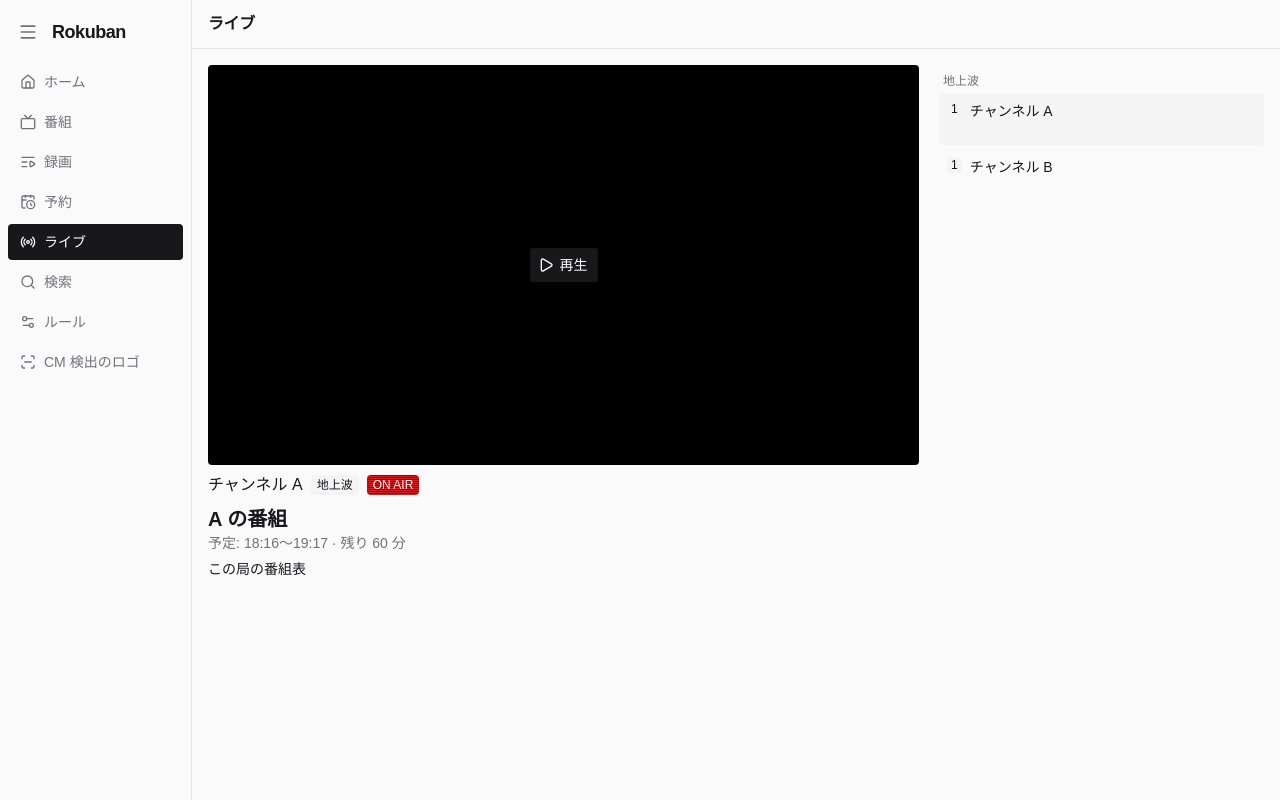
Test: LivePage › 再生中に別チャンネルへ切り替えると選択状態に戻る（同意はチャンネルごとに必要）
Check: the text "A の番組" is shown, box [208, 508, 287, 530]
Click the button with aria-label "チャンネル Aを再生": [251, 265] box [208, 65, 919, 465]
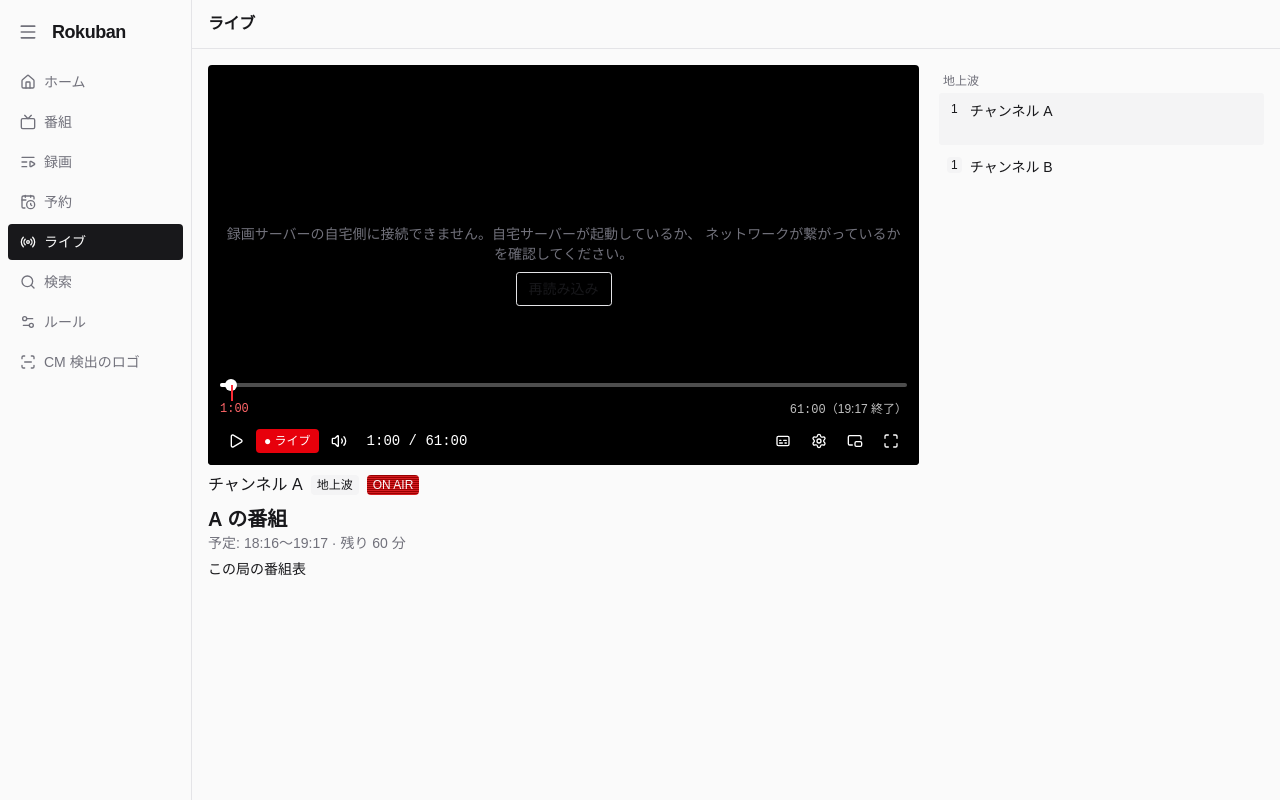
Check: the text "録画サーバーの自宅側に接続できません。自宅サーバーが起動しているか、 ネットワークが繋がっているかを確認してください。" is shown, box [224, 224, 903, 264]
Click the link "1 チャンネル B": [1000, 166] box [947, 157, 1053, 175]
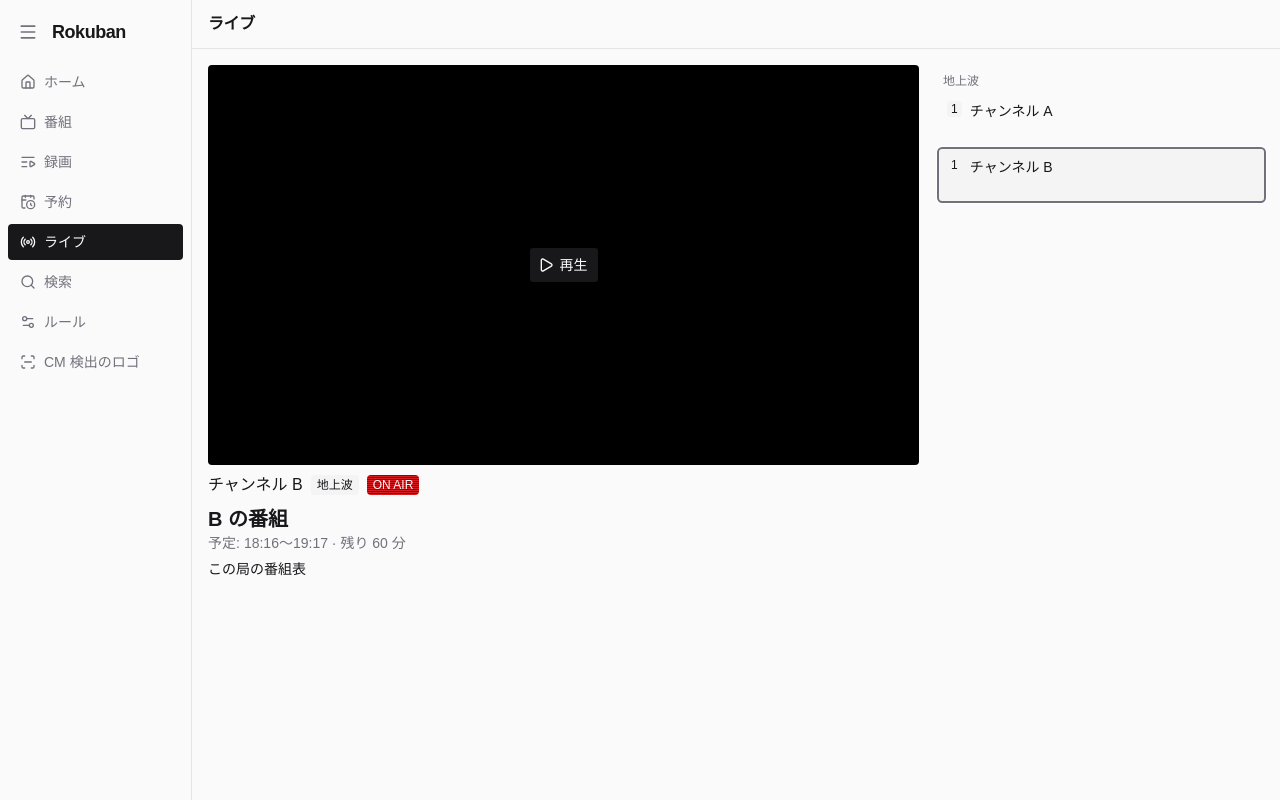
Check: the text "B の番組" is shown, box [208, 508, 288, 530]
Check: the button with aria-label "チャンネル Bを再生" is shown, box [208, 65, 919, 465]
Check: the text "接続できません" is gone
